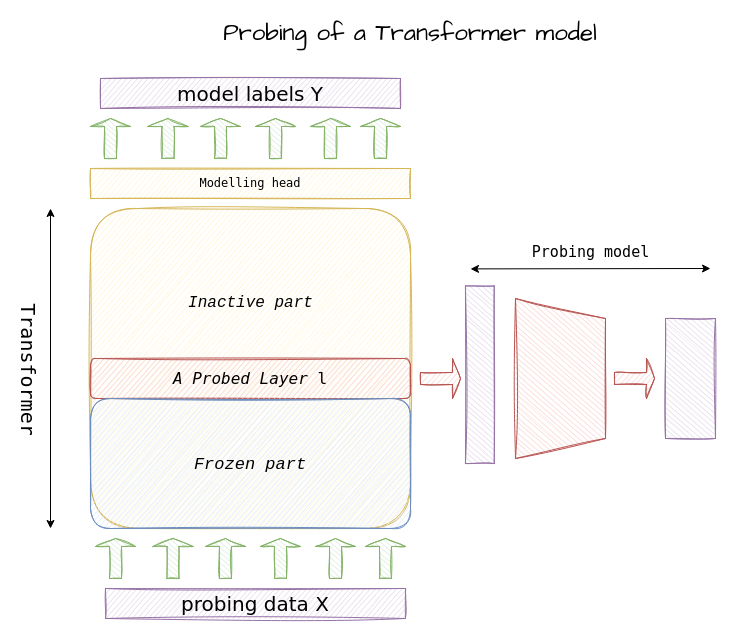
This 737x636 diagram has some shape labels left out. The box of each missing label's shape, as (x1, y1, x2, y2) in pixels:
embeddings Z: (464, 285, 494, 464)
probing labels Yo: (664, 318, 716, 438)
